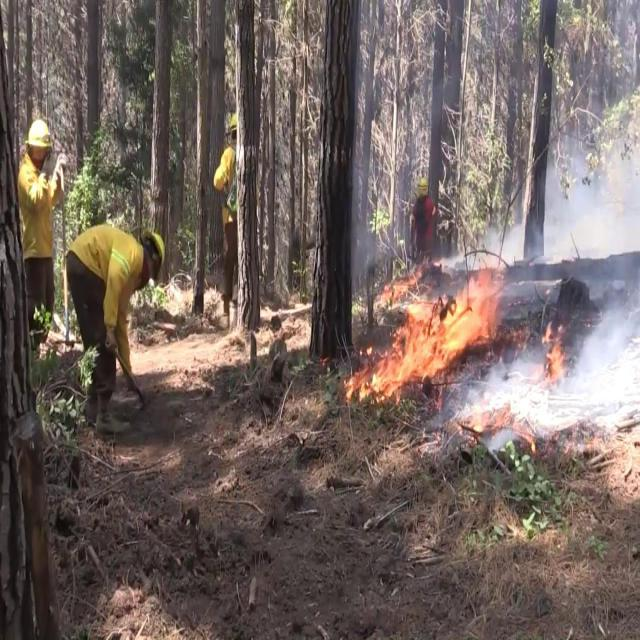Fire: (359, 274, 497, 394)
Smoke: (546, 152, 638, 422)
